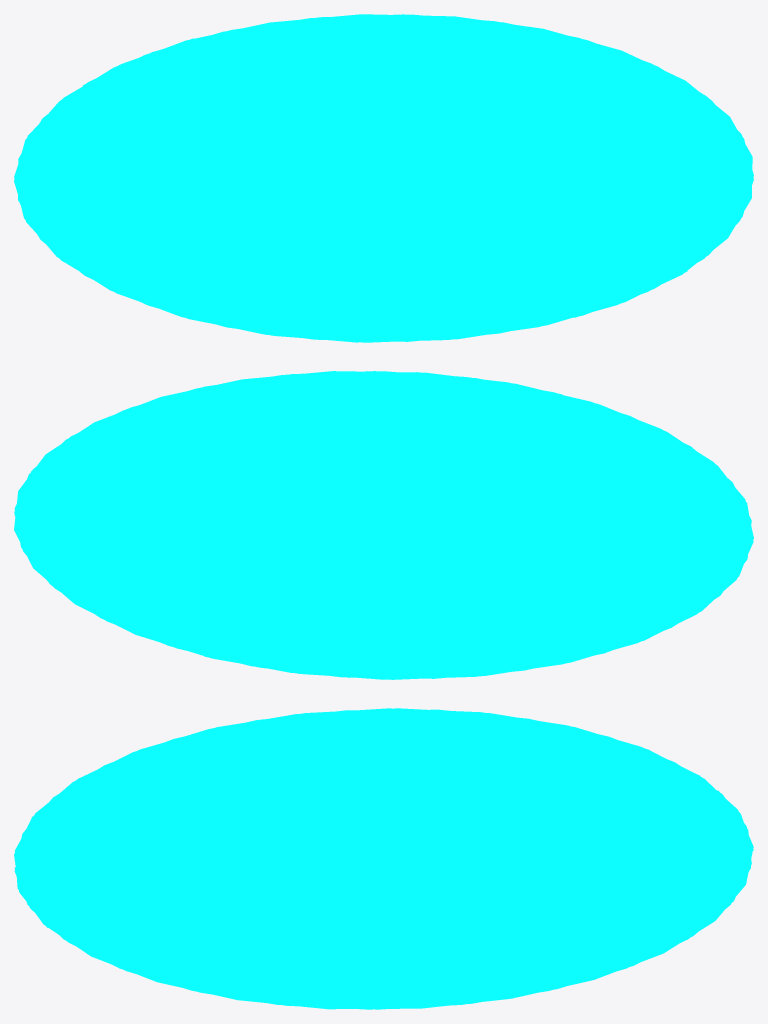
The model's file is hypersphere_4d_projection_solid_fallback_1771995424617.glb.
The picture shows the model from 3 angles, top to bottom: view 1: azimuth 30°, elevation 25°; view 2: azimuth 150°, elevation 25°; view 3: azimuth 270°, elevation 25°; orthographic projection.
Visible parts, largest first — view 1: MathShape; view 2: MathShape; view 3: MathShape.
Part boxes in pixels (x1,y1,x2,y2): MathShape: [14, 14, 753, 342]; MathShape: [14, 371, 753, 679]; MathShape: [14, 708, 753, 1009].
Bounding box in the file's own units: 2.09 × 0.0512 × 2.09.
Materials: 1 (1 with a texture image).
